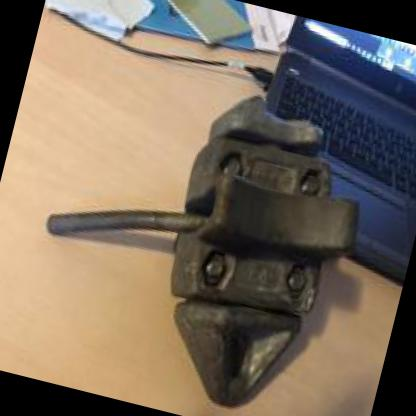Twistlock: (6, 46, 385, 415)
